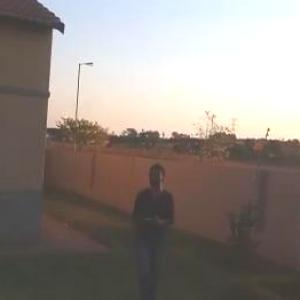follow: (123, 157, 178, 299)
